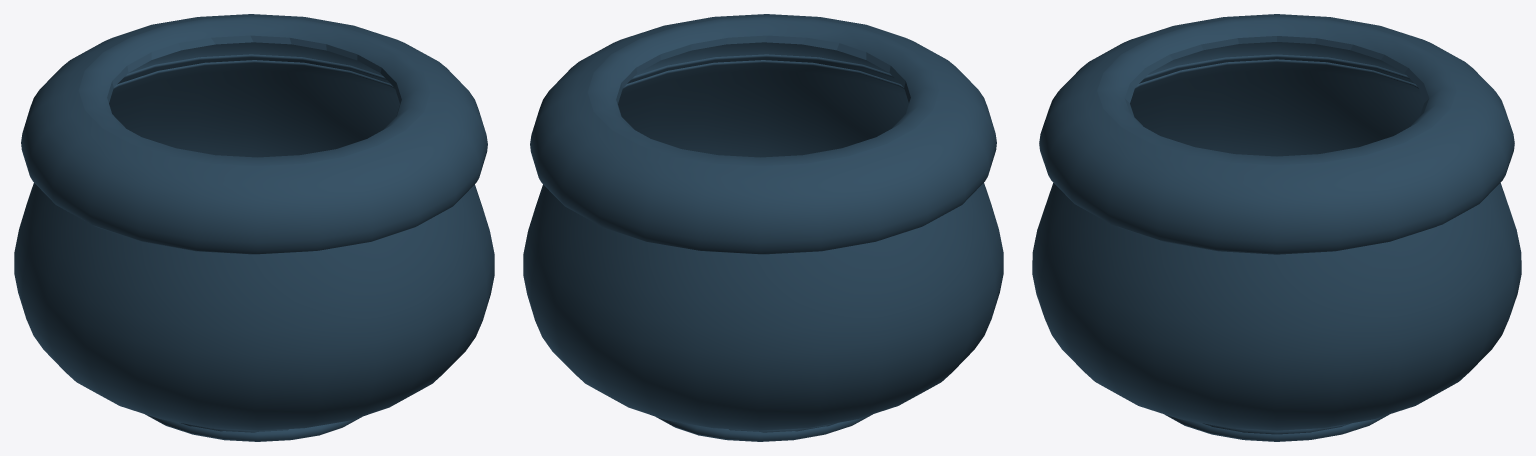
File: FishforSketchfab.obj
3 renders of one model, left to right at view 1: azimuth 30°, elevation 25°; view 2: azimuth 150°, elevation 25°; view 3: azimuth 270°, elevation 25°, orthographic.
Parts seen in each view (by area): view 1: FishbowlMesh; view 2: FishbowlMesh; view 3: FishbowlMesh.
Part boxes in pixels (left/top/right/bottom): FishbowlMesh: left=14, top=14, right=494, bottom=441; FishbowlMesh: left=523, top=14, right=1003, bottom=441; FishbowlMesh: left=1032, top=14, right=1521, bottom=441.
Size of the model in its own units: 28.08 by 19.69 by 28.53.
